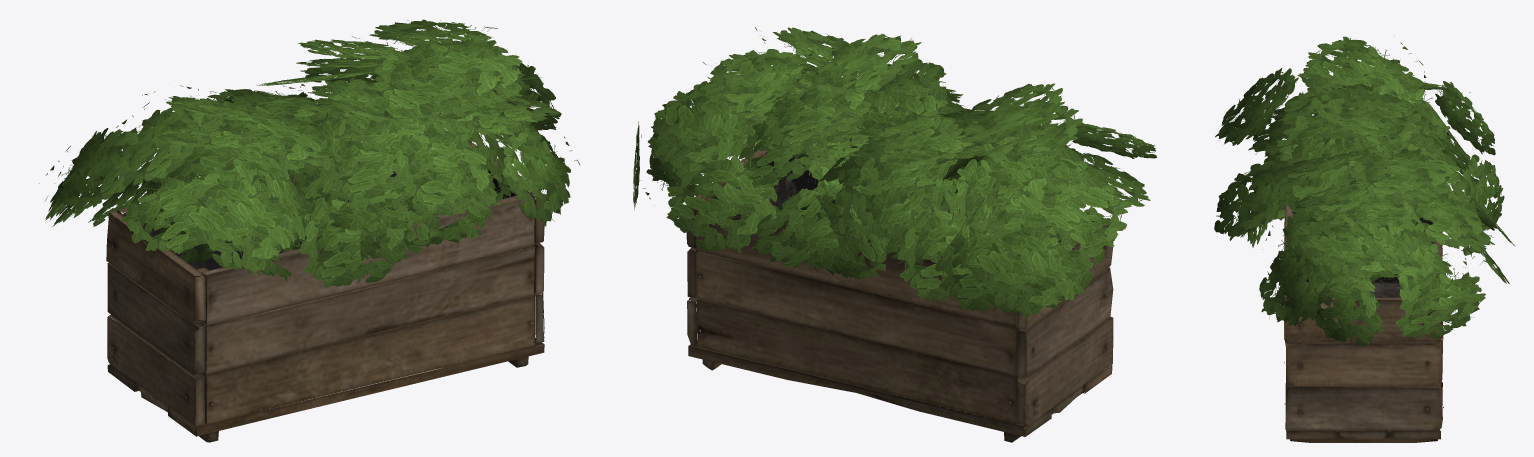
File: planter_box.glb
The picture shows the model from 3 angles, left to right: view 1: azimuth 30°, elevation 25°; view 2: azimuth 150°, elevation 25°; view 3: azimuth 270°, elevation 25°; orthographic projection. The views are drawn at different scales.
Parts seen in each view (by area): view 1: planter_box_foliage, planter_box; view 2: planter_box_foliage, planter_box; view 3: planter_box_foliage, planter_box.
Part boxes in pixels (box(x1,y1,x2,y2)): planter_box_foliage: box(39, 19, 579, 287); planter_box: box(106, 142, 544, 442); planter_box_foliage: box(633, 27, 1156, 318); planter_box: box(686, 149, 1113, 442); planter_box_foliage: box(1214, 36, 1515, 346); planter_box: box(1284, 202, 1443, 442).
Bounding box in the file's own units: 0.0688 × 0.0414 × 0.0405.
Materials: 2 (2 with a texture image).
